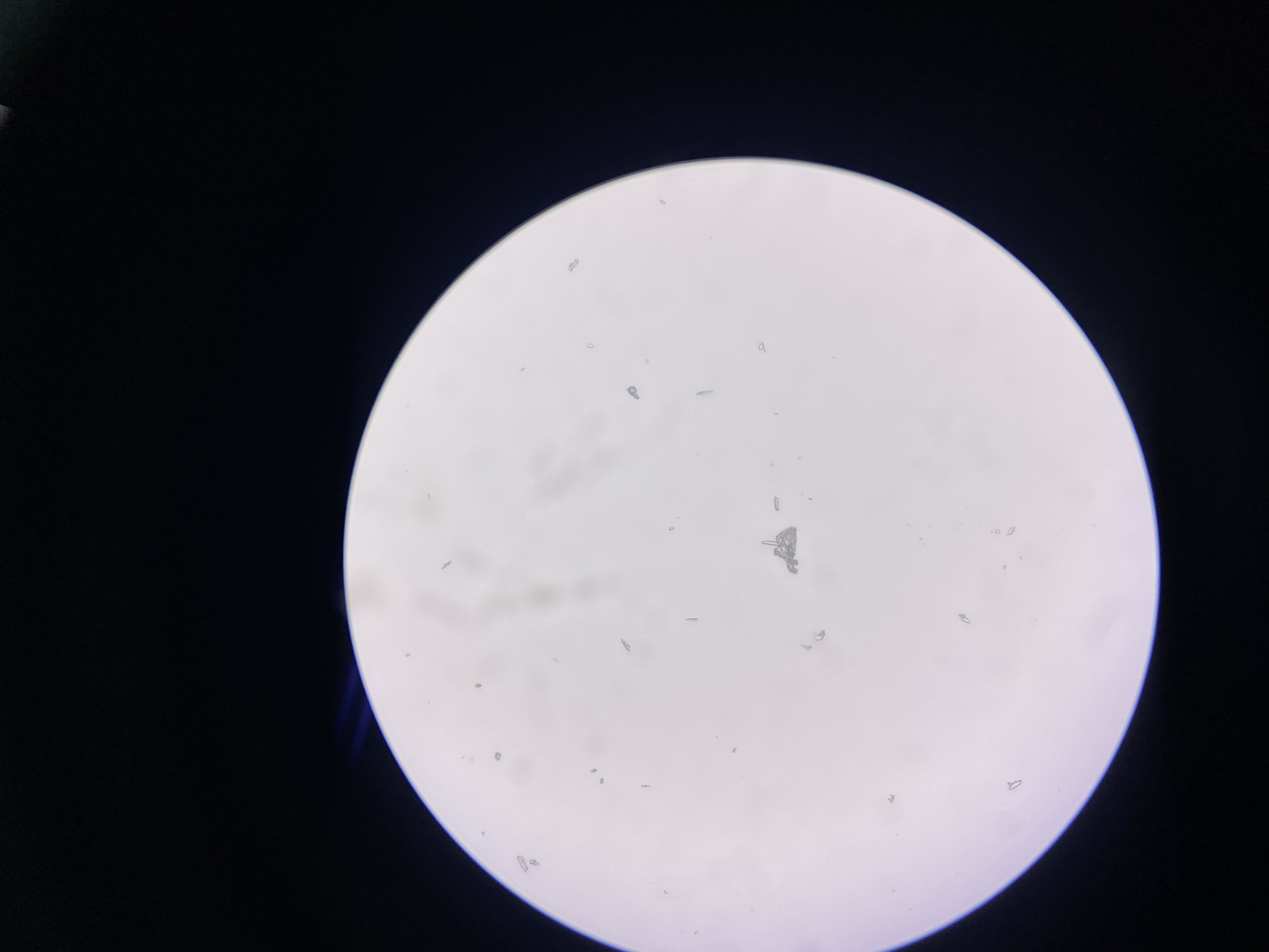microplastic: (760, 523, 805, 575), (514, 851, 542, 872), (956, 611, 978, 627), (568, 255, 584, 276), (488, 748, 504, 766), (770, 496, 784, 516), (757, 338, 772, 355), (696, 386, 716, 398), (440, 557, 455, 572), (994, 527, 1016, 537), (1009, 778, 1025, 790), (626, 384, 640, 397), (621, 635, 632, 651)
